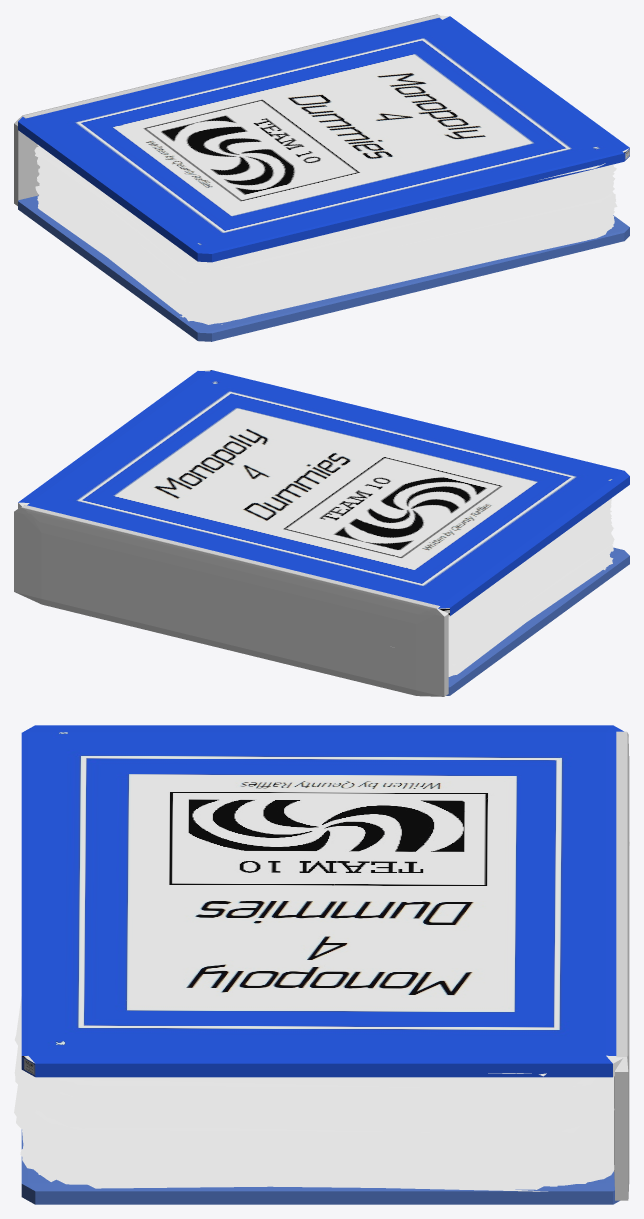
File: monopolyfordummies3.fbx
3 views of the same model, one above another, from view 1: azimuth 30°, elevation 25°; view 2: azimuth 150°, elevation 25°; view 3: azimuth 270°, elevation 25° (orthographic). The views are drawn at different scales.
Visible parts, largest first — view 1: Cube; view 2: Cube; view 3: Cube.
Part boxes in pixels (bbox=[...]): Cube: bbox=[14, 14, 629, 341]; Cube: bbox=[14, 370, 629, 696]; Cube: bbox=[14, 725, 629, 1204].
Bounding box in the file's own units: 431 × 86.69 × 328.
